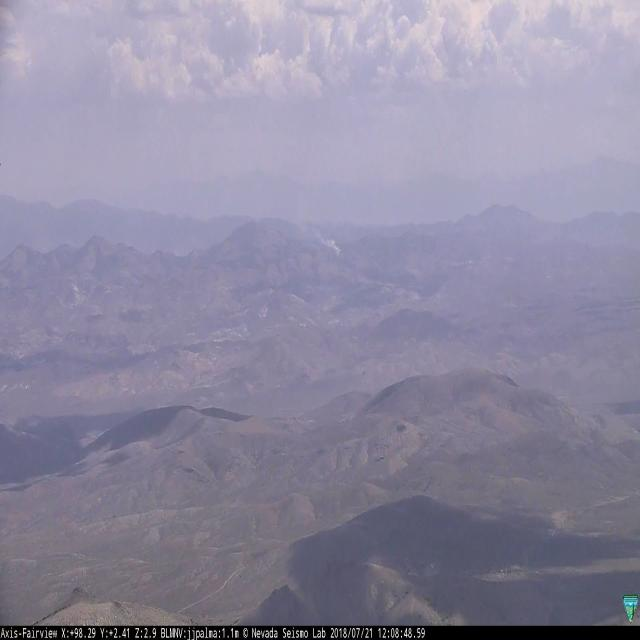smoke: (317, 231, 342, 257)
